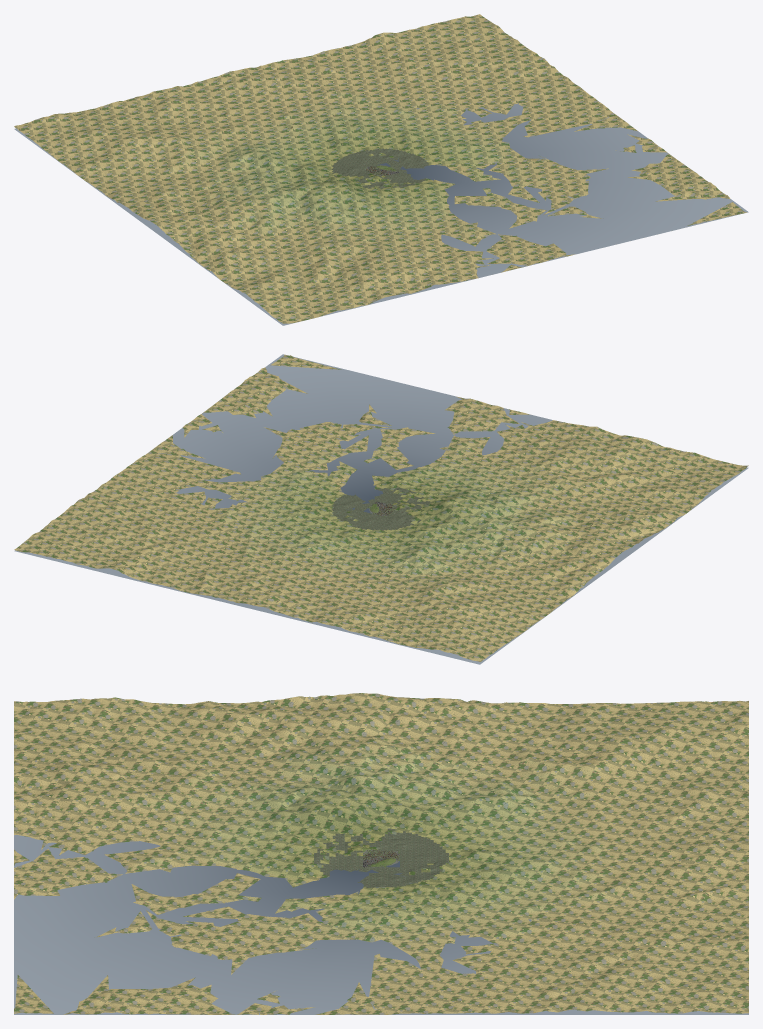
Rendered from north_hobart_backdrop_part1.glb.
3 views of the same model, one above another, from view 1: azimuth 30°, elevation 25°; view 2: azimuth 150°, elevation 25°; view 3: azimuth 270°, elevation 25° (orthographic). The views are drawn at different scales.
Parts seen in each view (by area): view 1: bg_far_terrain, bg_far_water, bg_far_suburb; view 2: bg_far_terrain, bg_far_water, bg_far_suburb; view 3: bg_far_terrain, bg_far_water, bg_far_suburb, bg_near_ground.
Boxes of the visible parts, x1,y1,x2,y2 form: bg_far_terrain: [14, 14, 746, 323]; bg_far_water: [14, 103, 748, 325]; bg_far_suburb: [331, 148, 429, 189]; bg_far_terrain: [14, 354, 748, 661]; bg_far_water: [14, 354, 748, 664]; bg_far_suburb: [331, 487, 430, 530]; bg_far_terrain: [14, 693, 748, 1014]; bg_far_water: [14, 828, 748, 1014]; bg_far_suburb: [314, 828, 448, 887]; bg_near_ground: [363, 848, 399, 867].
Size of the model in its own units: 60010 by 1269 by 60005.
27 materials, 18 textured.
